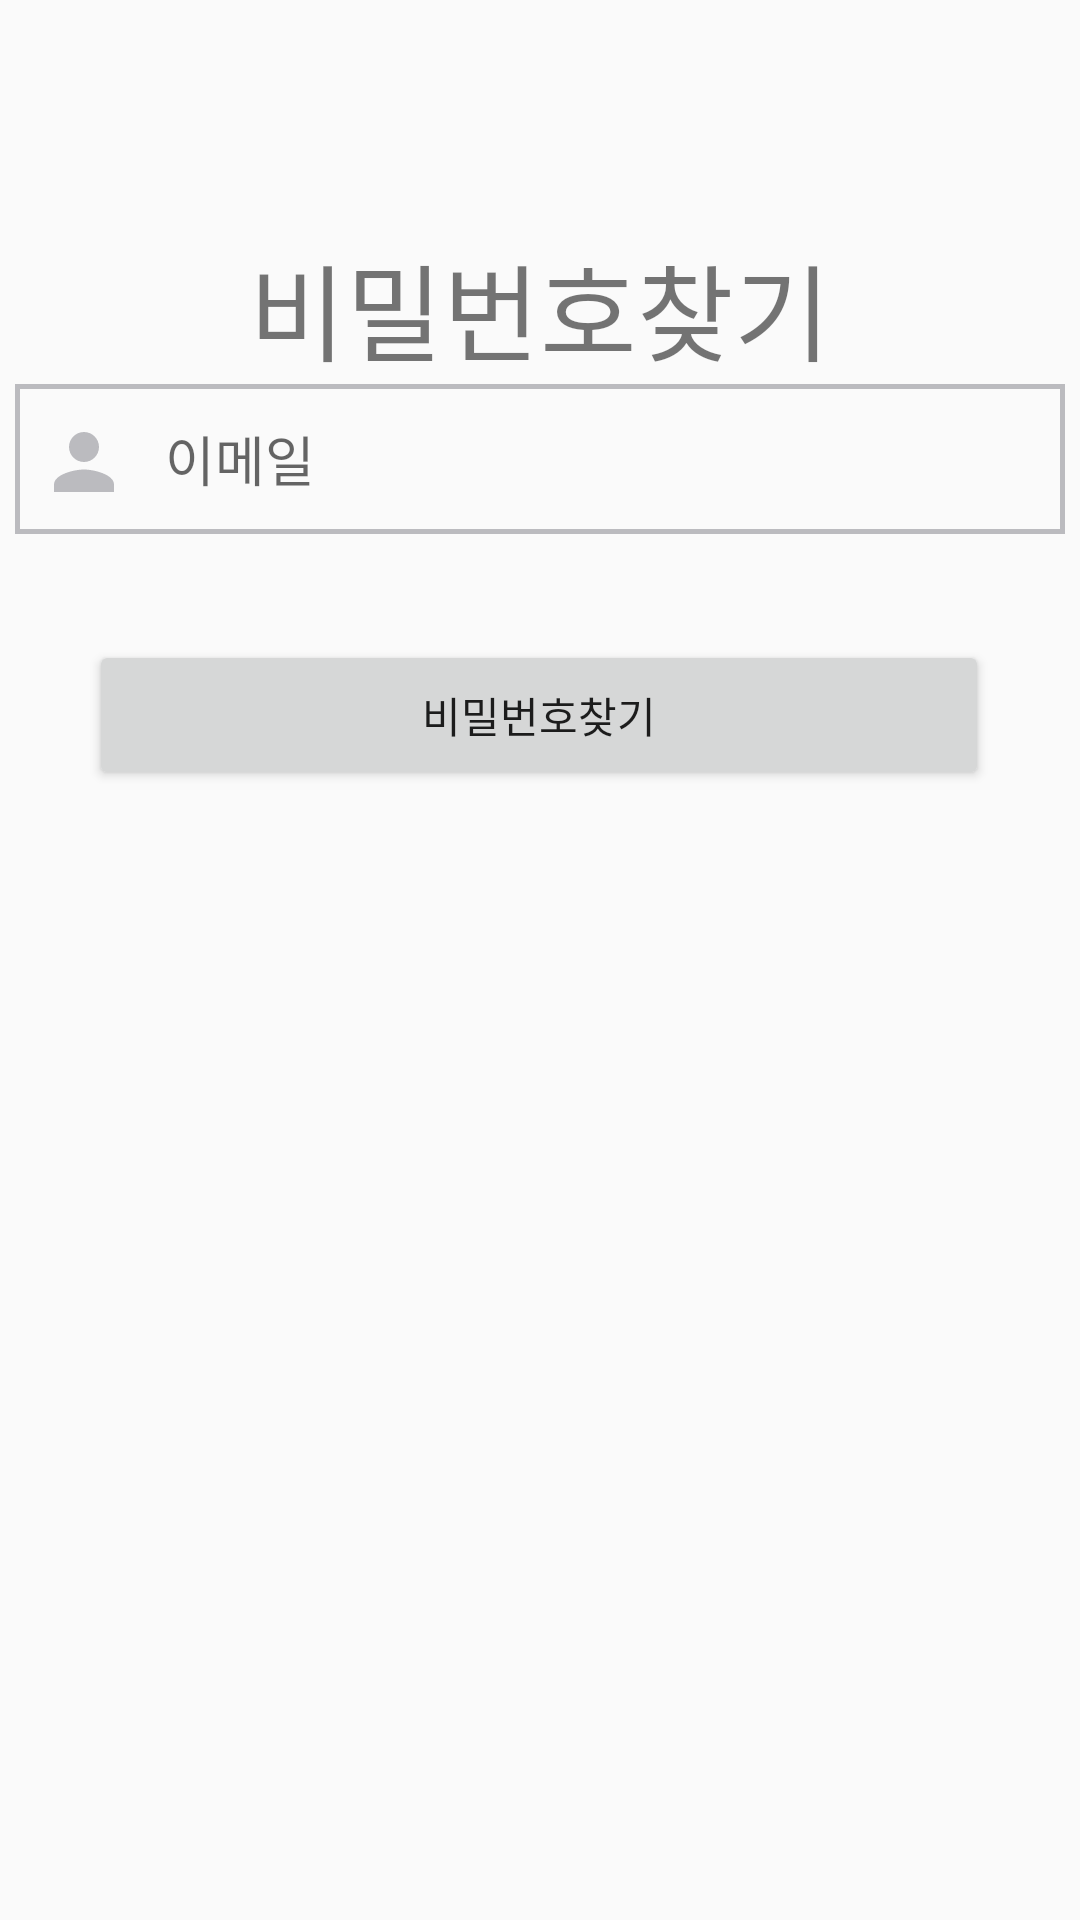

Locate icon controls on the screen. Image size 1080*1920, boxes as box=[x1, y1, x2, y2].
person: box=[54, 432, 114, 492]
